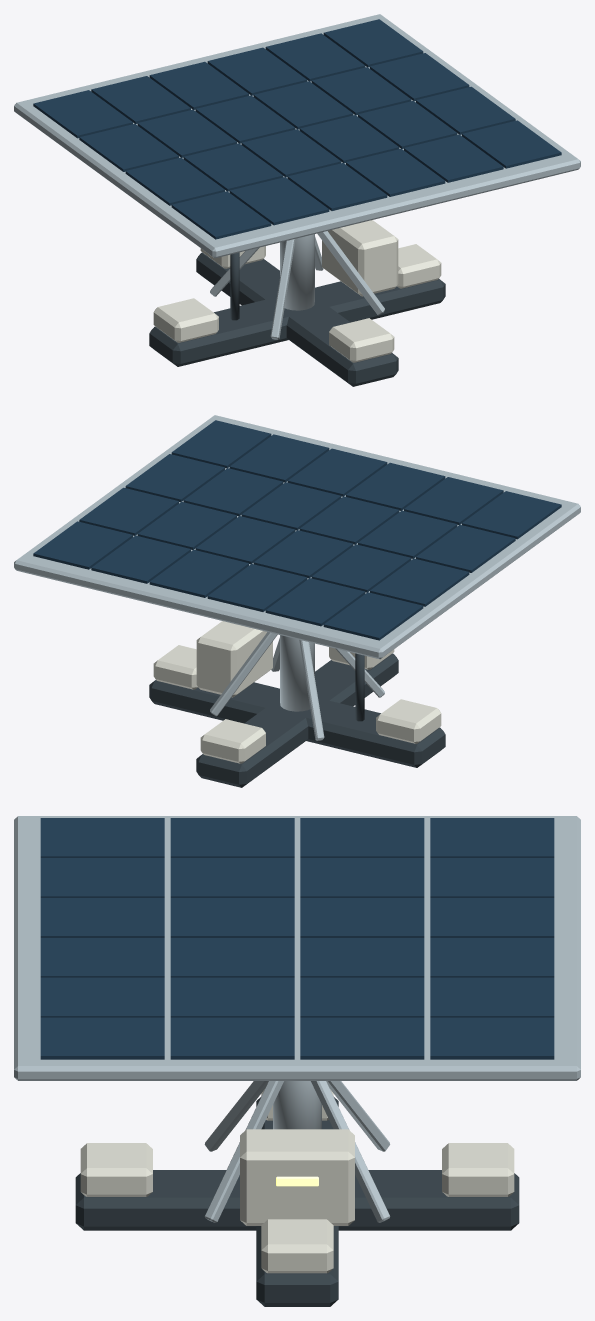
Rendered from solar.glb.
3 renders of one model, top to bottom at view 1: azimuth 30°, elevation 25°; view 2: azimuth 150°, elevation 25°; view 3: azimuth 270°, elevation 25°, orthographic. The views are drawn at different scales.
Visible parts, largest first — view 1: Panel, solar_dark, solar_ivory, solar_metal; view 2: Panel, solar_dark, solar_ivory, solar_metal; view 3: Panel, solar_ivory, solar_dark, solar_metal.
Boxes of the visible parts, <box> form: Panel: <box>14,14,580,258</box>; solar_dark: <box>149,252,445,386</box>; solar_ivory: <box>153,220,441,362</box>; solar_metal: <box>210,231,384,339</box>; Panel: <box>14,415,580,659</box>; solar_dark: <box>149,653,445,787</box>; solar_ivory: <box>153,621,441,763</box>; solar_metal: <box>210,632,384,740</box>; Panel: <box>14,816,580,1080</box>; solar_ivory: <box>80,1089,514,1273</box>; solar_dark: <box>75,1097,519,1306</box>; solar_metal: <box>204,1081,390,1222</box>.
Bounding box in the file's own units: 3.65 × 1.88 × 3.45.
